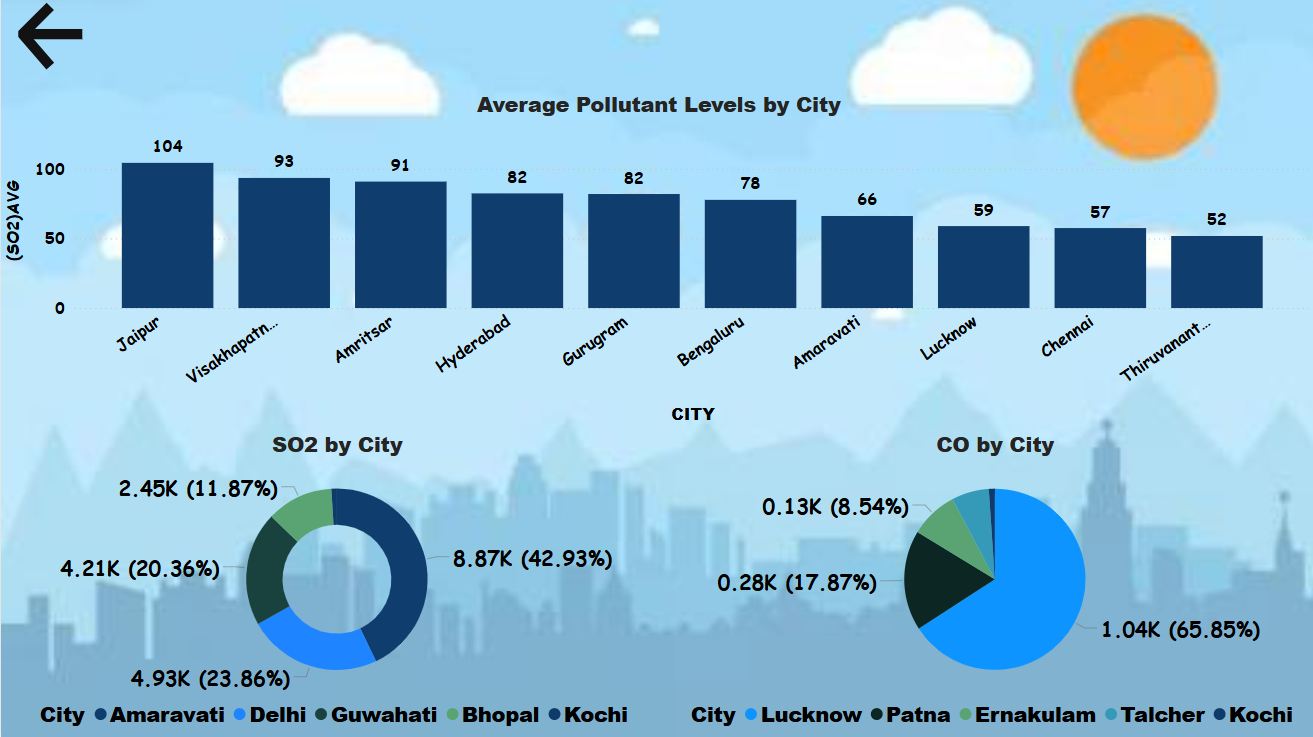

What the dashboard file says about the page in this screenshot:
{"tool":"powerbi","page":{"name":"Page 2","canvas":[1280,720],"ordinal":1},"visuals":[{"type":"clusteredColumnChart","title":"Average Pollutant Levels by City","fields":{"Category":["Dataset.City"],"Y":["Avg(Dataset.PM10)"]},"box":[0,88.6,1279.9,331.5],"z":0},{"type":"pieChart","title":"CO by City","fields":{"Category":["Dataset.City"],"Y":["Sum(Dataset.CO)"]},"box":[654.1,420.1,625.7,299.6],"z":1000},{"type":"actionButton","box":[0,0,99.3,74.5],"z":6000},{"type":"donutChart","title":"SO2 by City","fields":{"Category":["Dataset.City"],"Y":["Sum(Dataset.SO2)"]},"box":[0,420.1,654.1,299.6],"z":8000}]}

Visuals, with their boxes in screenshot pixels (x1, y1, x2, y2), scaled from the page's 1280x720 canvas onto the 1313x737 screenshot:
"Average Pollutant Levels by City" clusteredColumnChart: [0,91,1312,430]
"CO by City" pieChart: [671,430,1312,736]
actionButton: [0,0,102,76]
"SO2 by City" donutChart: [0,430,671,736]
